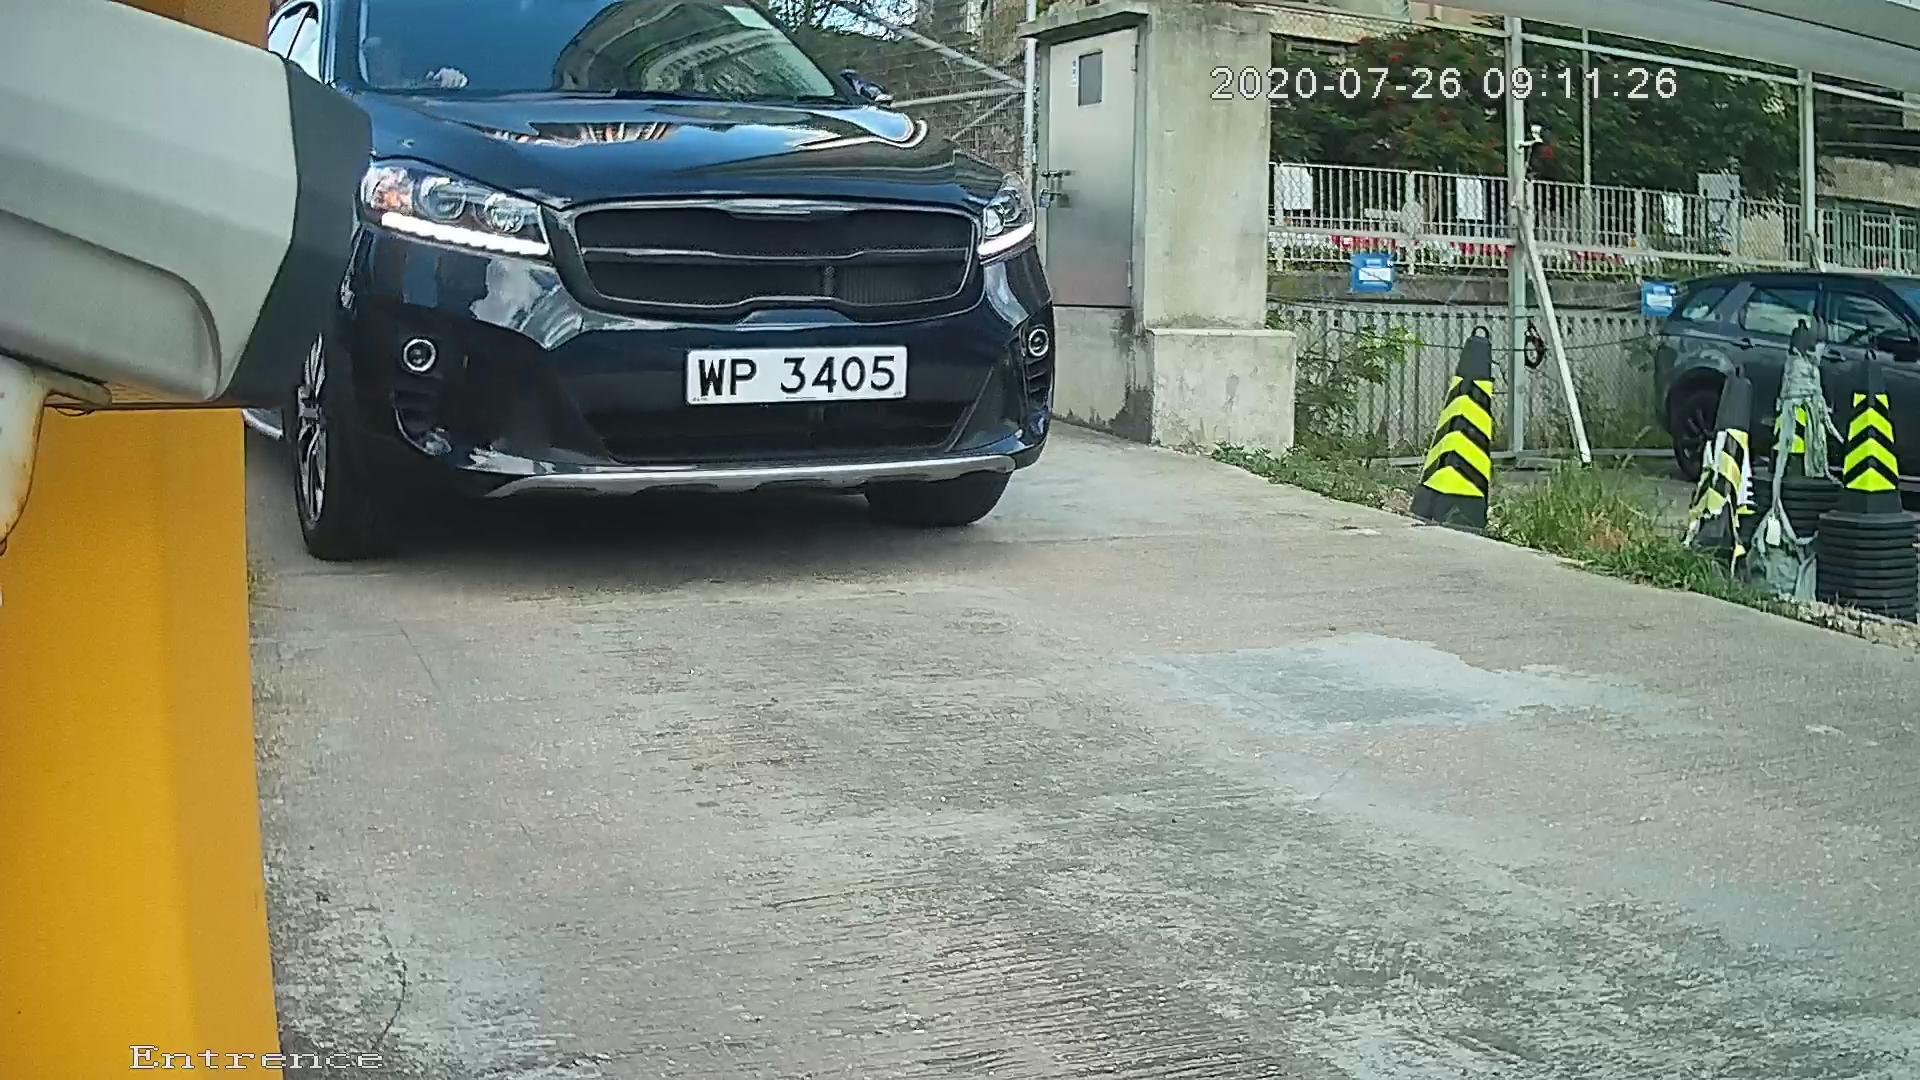privatecar: (164, 5, 1251, 550)
